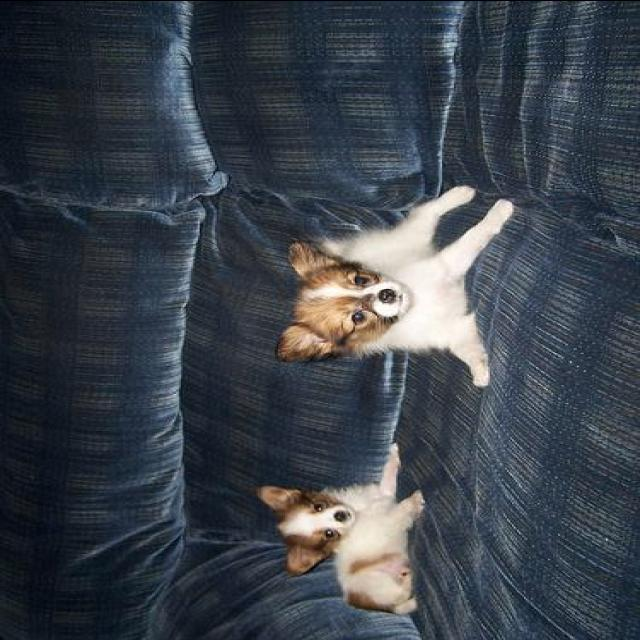papillon: (275, 182, 517, 386), (251, 442, 425, 616)
